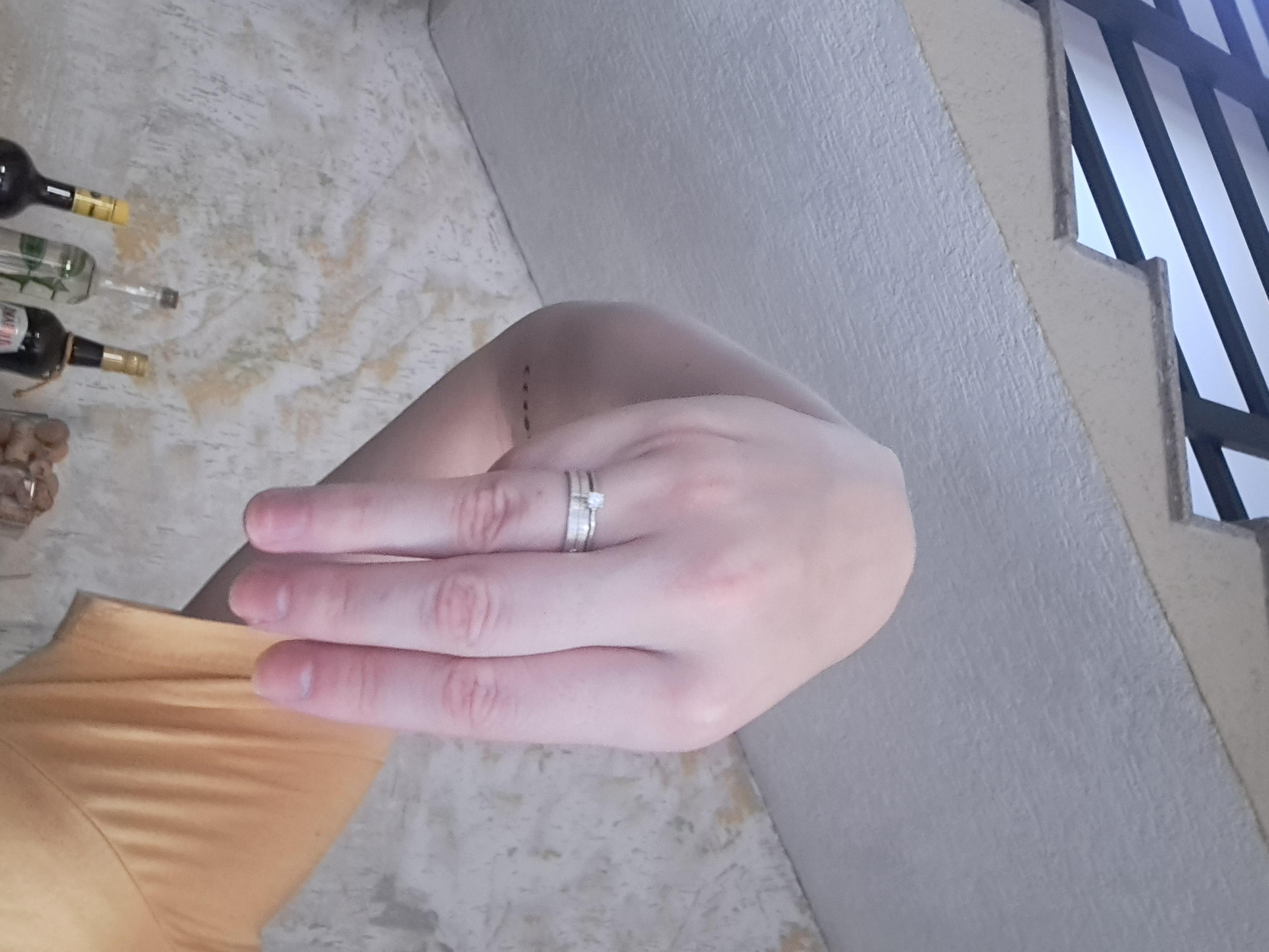M: (508, 274, 1032, 811)
